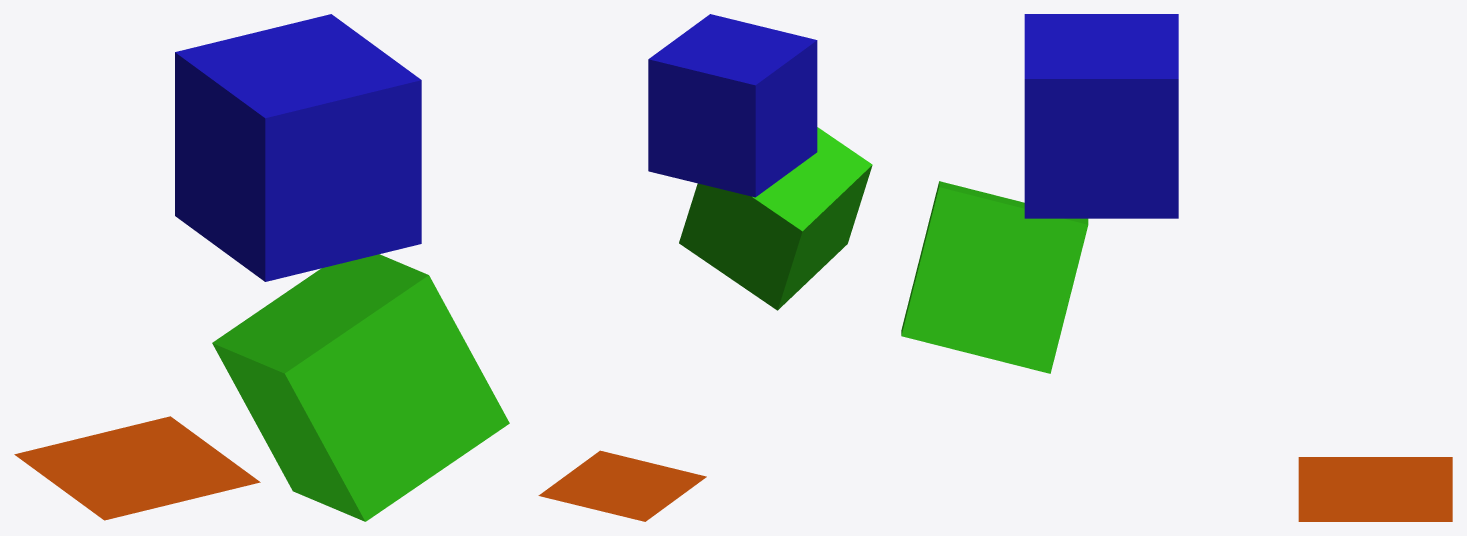
File: personfbx_-Z_Y - Copy (2).fbx
3 renders of one model, left to right at view 1: azimuth 30°, elevation 25°; view 2: azimuth 150°, elevation 25°; view 3: azimuth 270°, elevation 25°, orthographic. The views are drawn at different scales.
Visible parts, largest first — view 1: Cube.001, Cube, Plane; view 2: Cube.001, Cube, Plane; view 3: Cube.001, Cube, Plane.
Part boxes in pixels (box(x1,y1,x2,y2)): Cube.001: box(175, 14, 421, 281); Cube: box(212, 254, 509, 521); Plane: box(14, 416, 260, 520); Cube.001: box(648, 14, 817, 197); Cube: box(679, 127, 872, 310); Plane: box(538, 450, 706, 521); Cube.001: box(1024, 14, 1178, 218); Cube: box(901, 181, 1088, 373); Plane: box(1298, 457, 1452, 521).
Bounding box in the file's own units: 2.78 × 6.35 × 7.16.
